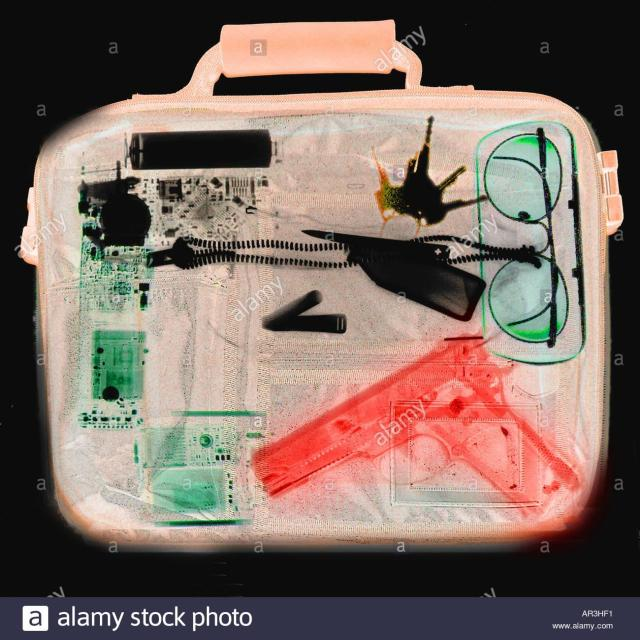Pistol: (259, 331, 592, 516)
